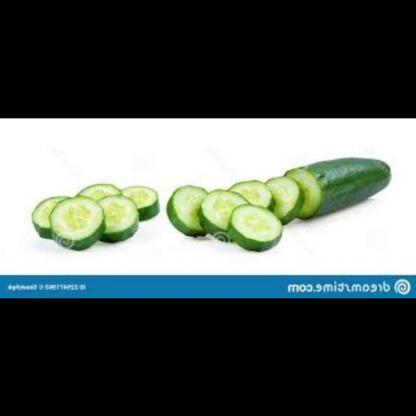cucumber: (166, 170, 303, 254), (32, 176, 160, 251), (280, 148, 392, 223)
